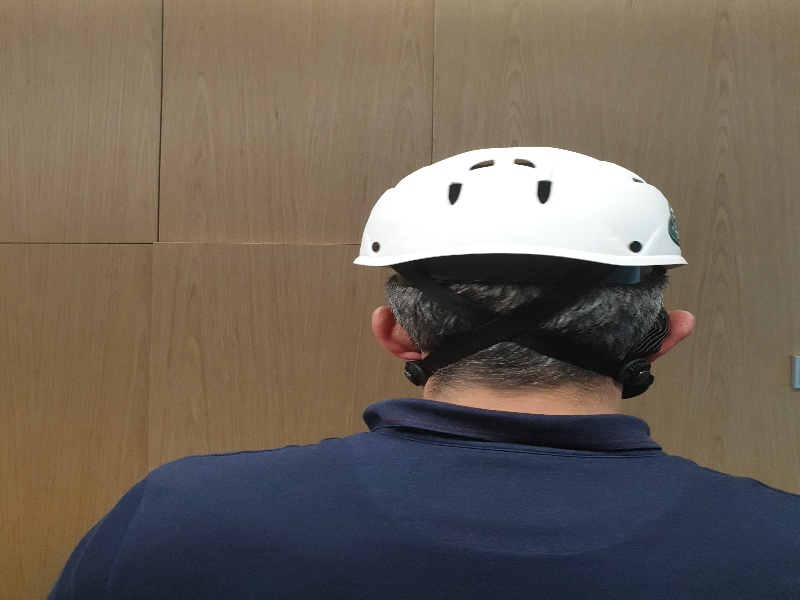Baret: (354, 145, 688, 274)
